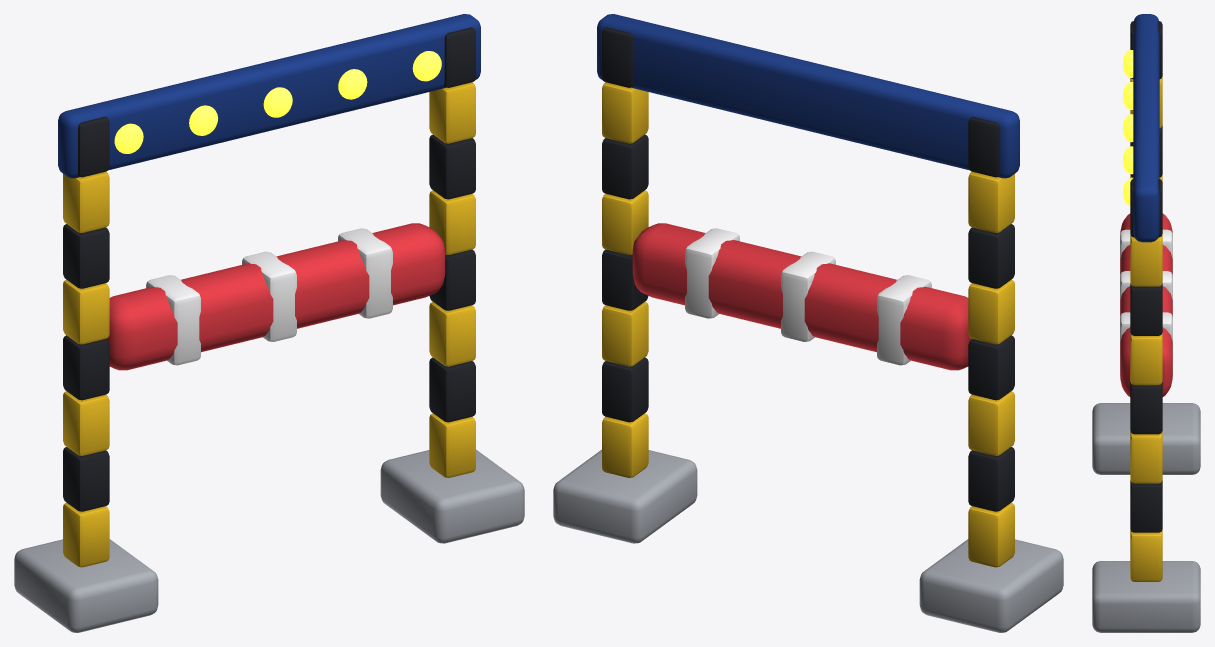
Rendered from vl_gate.glb.
3 views of the same model, side by side, from view 1: azimuth 30°, elevation 25°; view 2: azimuth 150°, elevation 25°; view 3: azimuth 270°, elevation 25° (orthographic). The views are drawn at different scales.
Parts seen in each view (by area): view 1: gate; view 2: gate; view 3: gate.
Boxes of the visible parts, left/top/right/bottom form: gate: left=14, top=14, right=524, bottom=632; gate: left=553, top=14, right=1063, bottom=632; gate: left=1092, top=14, right=1200, bottom=632.
Bounding box in the file's own units: 2.14 × 2.22 × 0.5.
